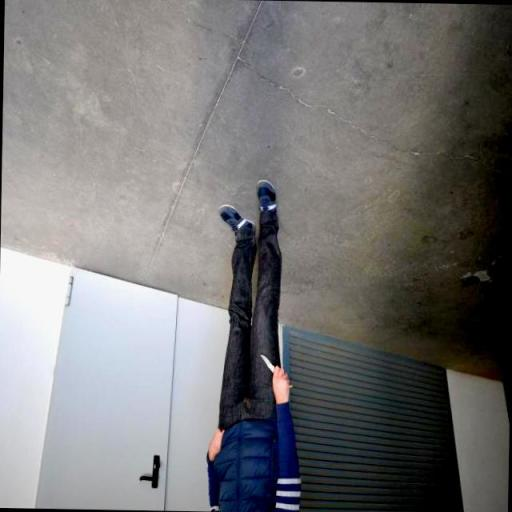knife: (258, 352, 295, 390)
